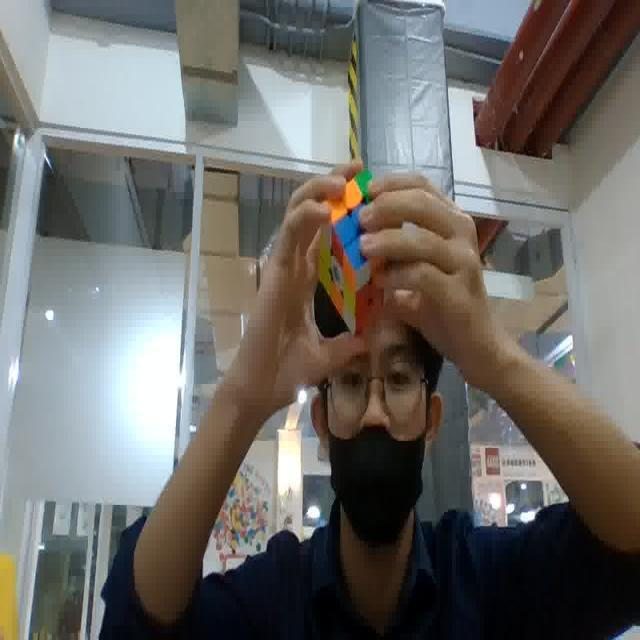Rub: (319, 164, 396, 339)
